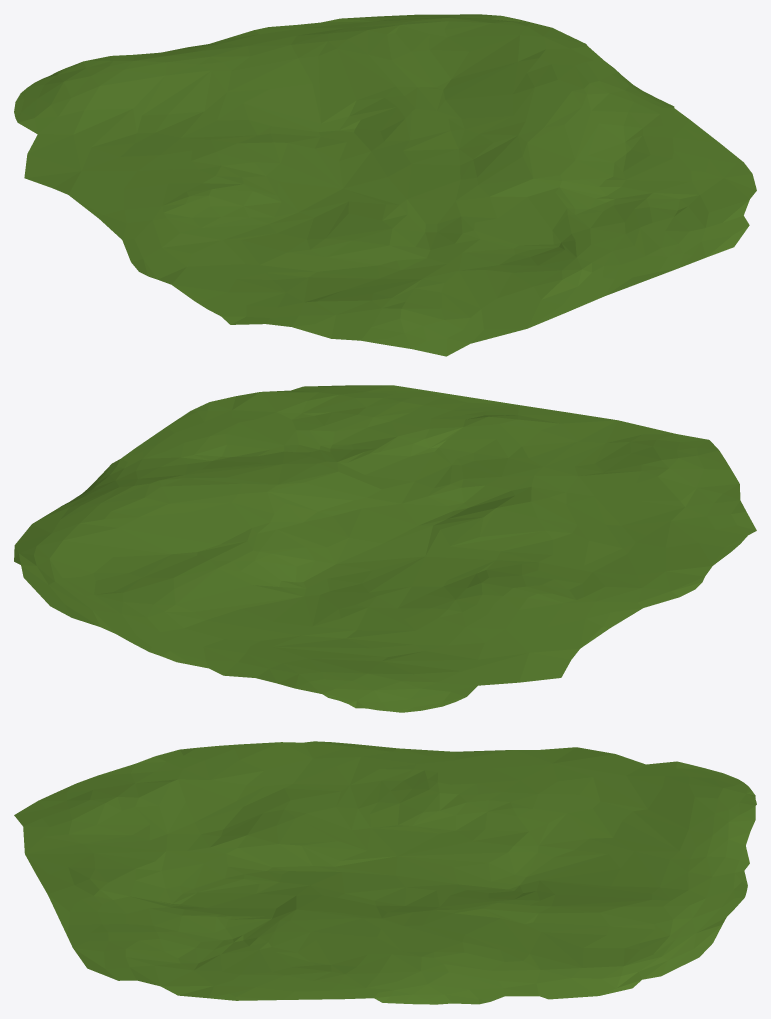
Rendered from Cavern_FloorGrass_Plane_Med.fbx.
3 renders of one model, top to bottom at view 1: azimuth 30°, elevation 25°; view 2: azimuth 150°, elevation 25°; view 3: azimuth 270°, elevation 25°, orthographic.
Parts seen in each view (by area): view 1: Cavern_FloorGrass_Plane_Med; view 2: Cavern_FloorGrass_Plane_Med; view 3: Cavern_FloorGrass_Plane_Med.
Boxes of the visible parts, left/top/right/bottom form: Cavern_FloorGrass_Plane_Med: left=14, top=14, right=756, bottom=356; Cavern_FloorGrass_Plane_Med: left=14, top=385, right=756, bottom=712; Cavern_FloorGrass_Plane_Med: left=14, top=741, right=756, bottom=1004.
Bounding box in the file's own units: 2340 × 106 × 2723.
Materials: 1 (1 with a texture image).
